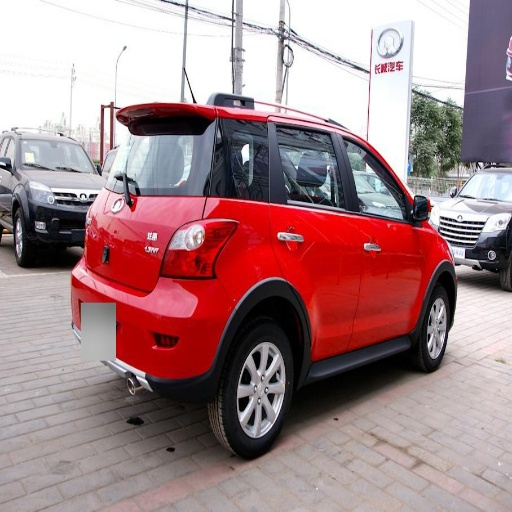back_bumper: (82, 275, 238, 384)
back_right_door: (263, 115, 367, 351)
trunk: (88, 189, 204, 292)
